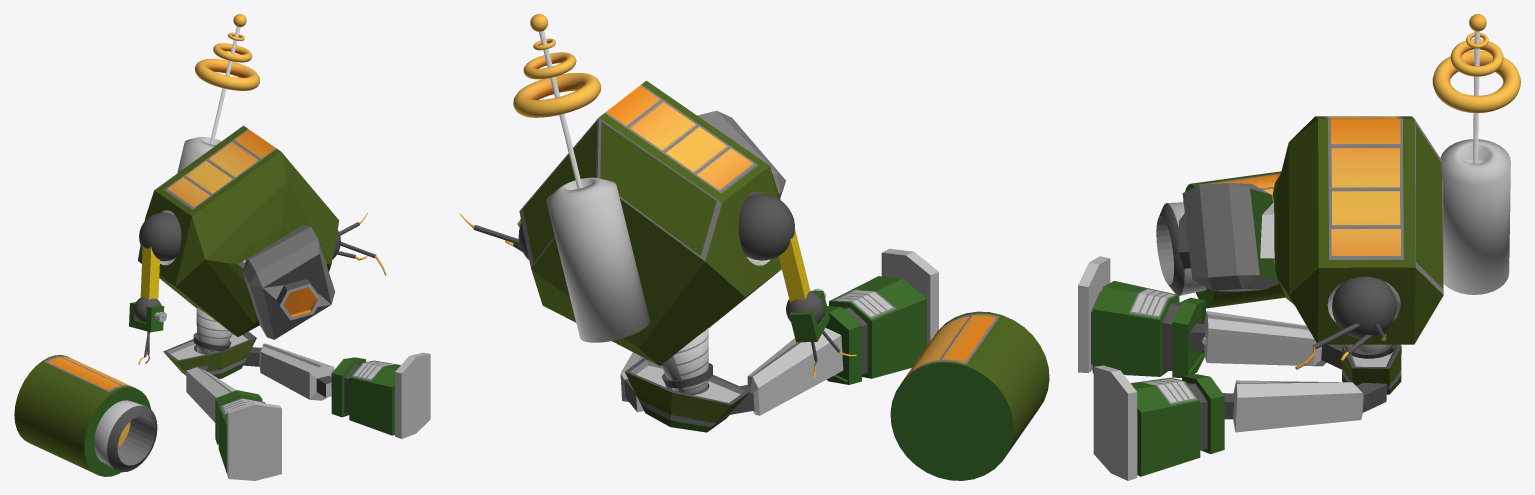
File: robotdead.fbx
The picture shows the model from 3 angles, left to right: view 1: azimuth 30°, elevation 25°; view 2: azimuth 150°, elevation 25°; view 3: azimuth 270°, elevation 25°; orthographic projection. The views are drawn at different scales.
Visible parts, largest first — view 1: Cube; view 2: Cube; view 3: Cube.
Part boxes in pixels (x1,y1,x2,y2): Cube: (14, 14, 430, 480); Cube: (459, 14, 1049, 480); Cube: (1078, 14, 1520, 480).
Size of the model in its own units: 335 by 274 by 253.
